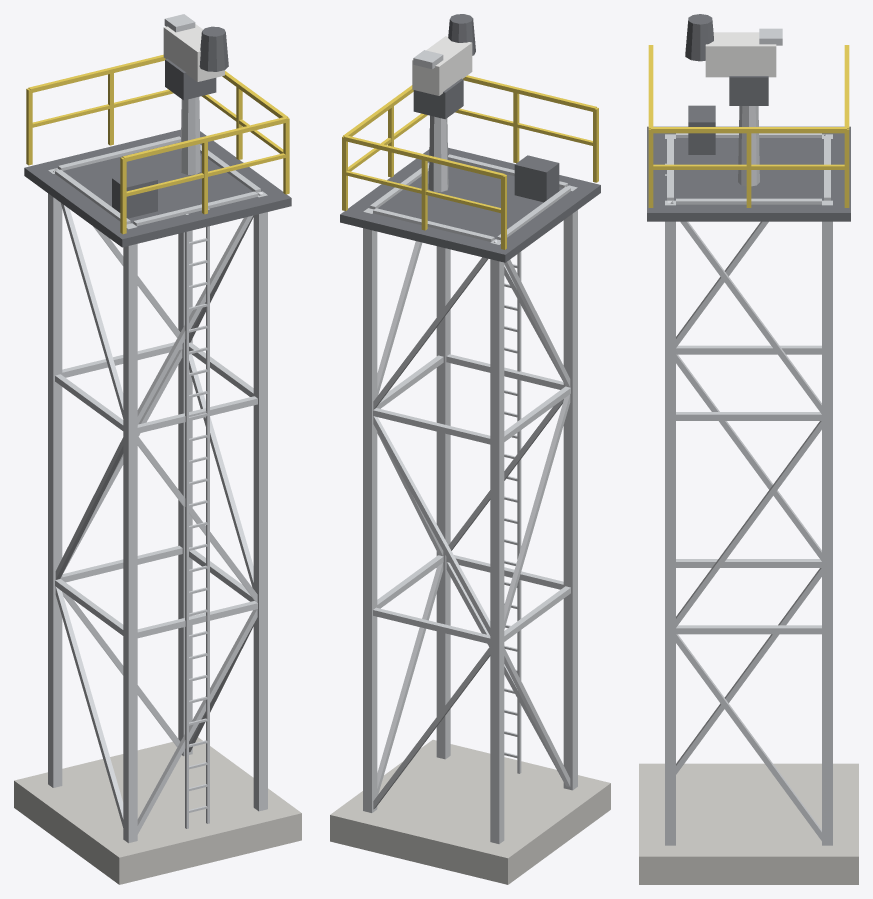
Rendered from camtower.glb.
The picture shows the model from 3 angles, left to right: view 1: azimuth 30°, elevation 25°; view 2: azimuth 150°, elevation 25°; view 3: azimuth 270°, elevation 25°; orthographic projection. The views are drawn at different scales.
Parts seen in each view (by area): view 1: camera-tower, camera-head/charcoal, camera-head/white; view 2: camera-tower, camera-head/white, camera-head/charcoal; view 3: camera-tower, camera-head/white, camera-head/charcoal.
Part boxes in pixels (box(x1,y1,x2,y2)): camera-tower: box(14, 54, 301, 884); camera-head/charcoal: box(165, 26, 228, 100); camera-head/white: box(163, 24, 224, 81); camera-tower: box(330, 75, 610, 884); camera-head/white: box(412, 36, 472, 95); camera-head/charcoal: box(413, 14, 475, 119); camera-tower: box(639, 45, 858, 884); camera-head/white: box(705, 32, 776, 77); camera-head/charcoal: box(685, 14, 768, 105).
Bounding box in the file's own units: 2.8 × 11.75 × 2.8.
